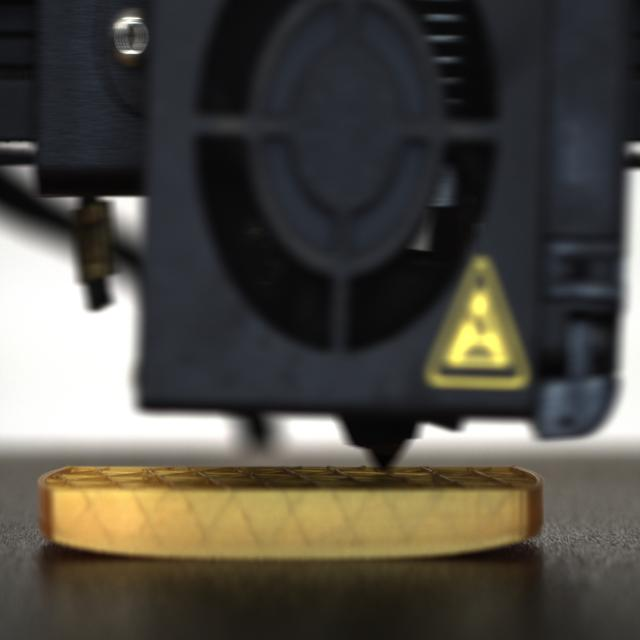Warping: (455, 527, 540, 562), (44, 528, 110, 561)
